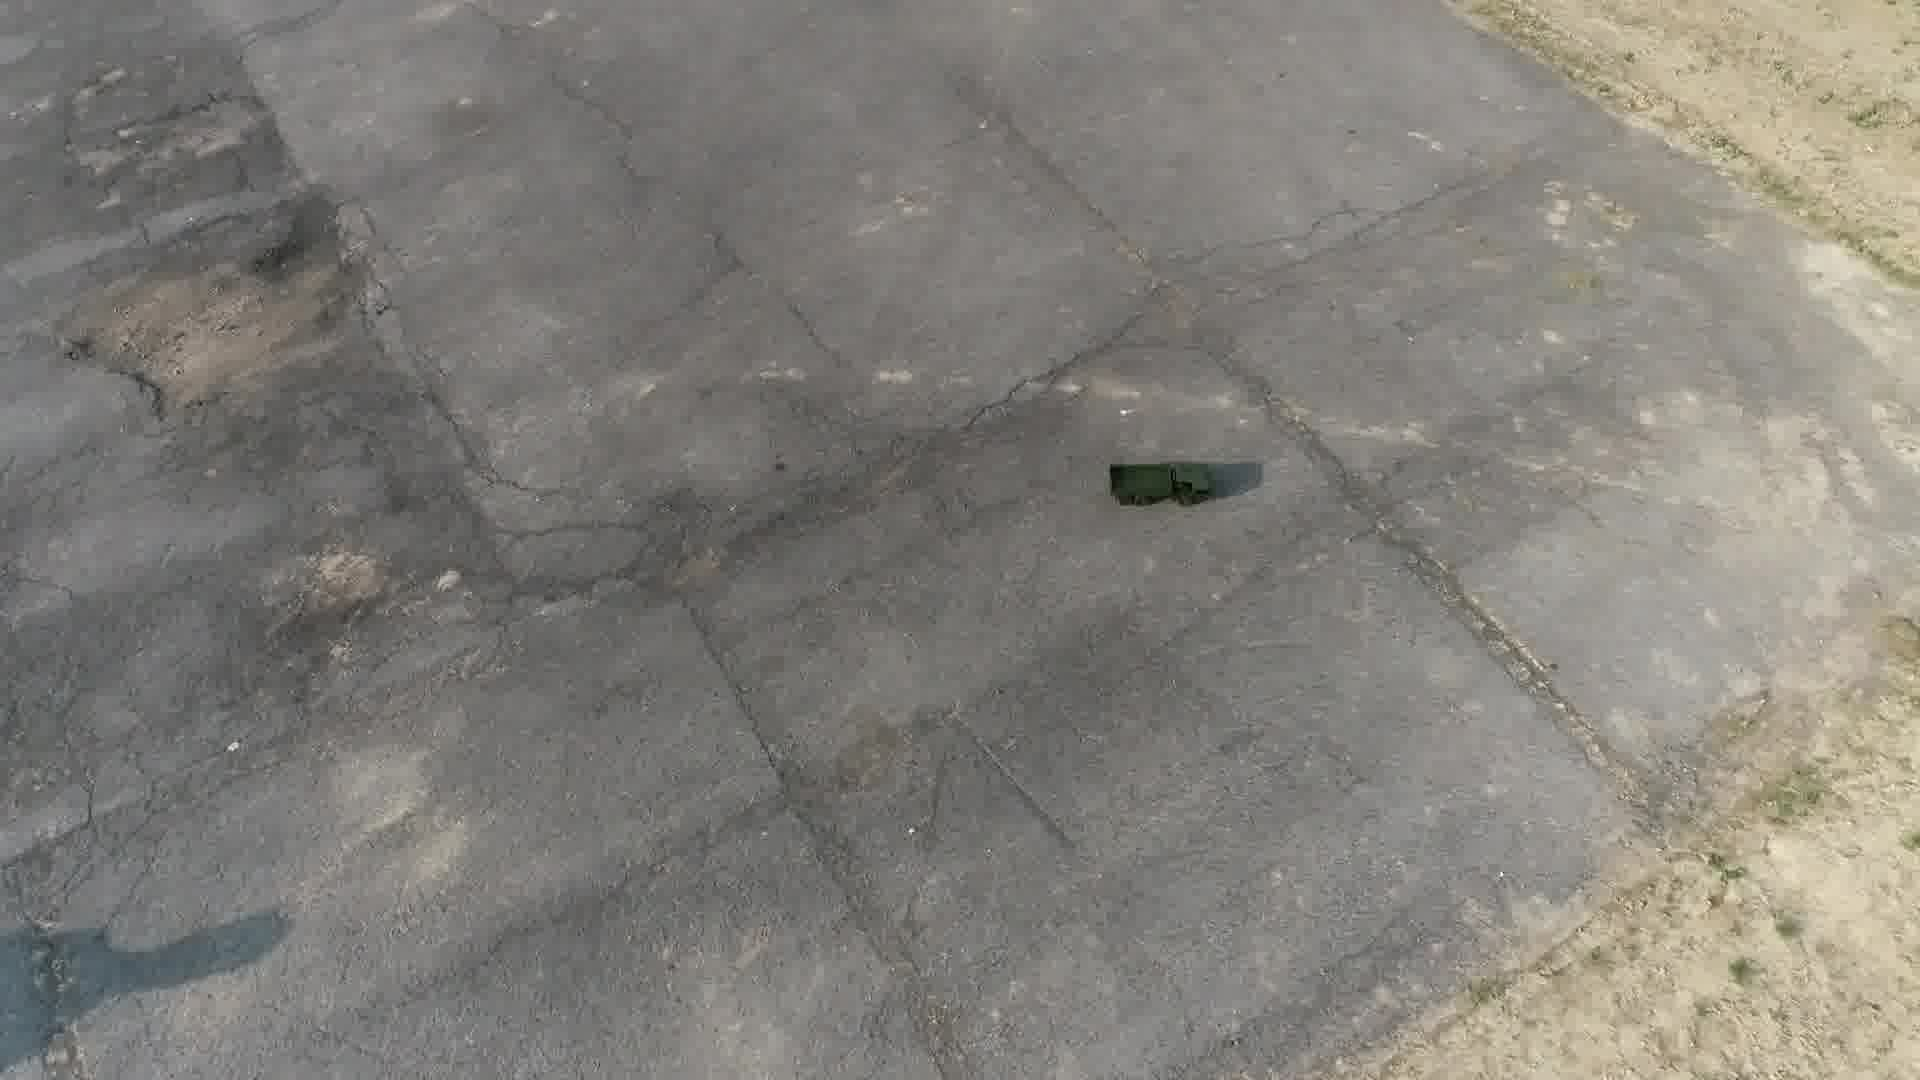transporter9: (1106, 454, 1218, 509)
